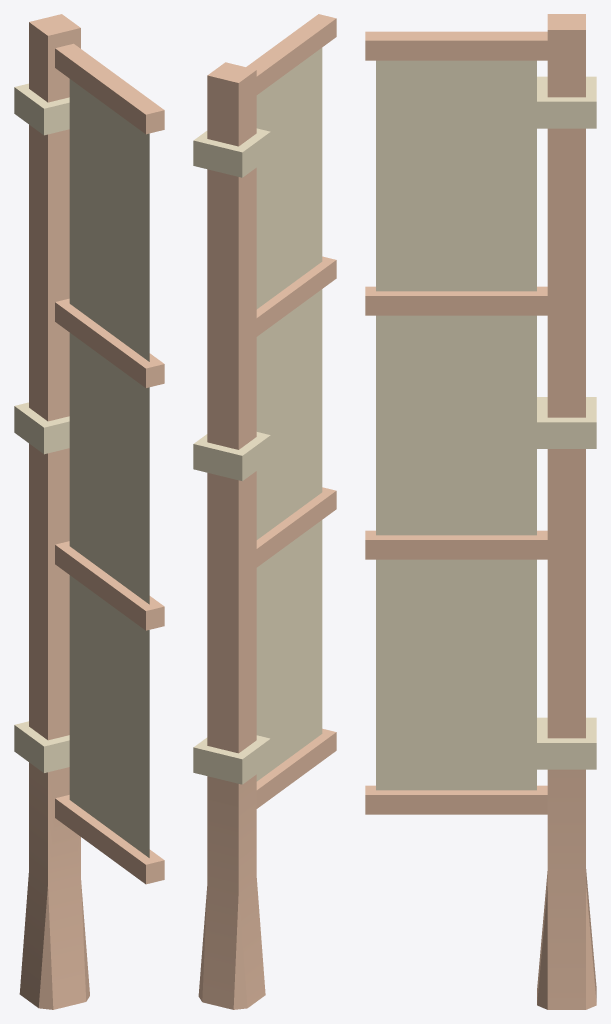
The picture shows the model from 3 angles, left to right: view 1: azimuth 30°, elevation 25°; view 2: azimuth 150°, elevation 25°; view 3: azimuth 270°, elevation 25°; orthographic projection. The views are drawn at different scales.
Visible parts, largest first — view 1: blade; view 2: blade; view 3: blade.
Boxes of the visible parts, bbox=[...] form: blade: bbox=[14, 14, 164, 1009]; blade: bbox=[193, 14, 336, 1009]; blade: bbox=[365, 14, 596, 1009].
Size of the model in its own units: 0.111 by 2 by 0.4304.
